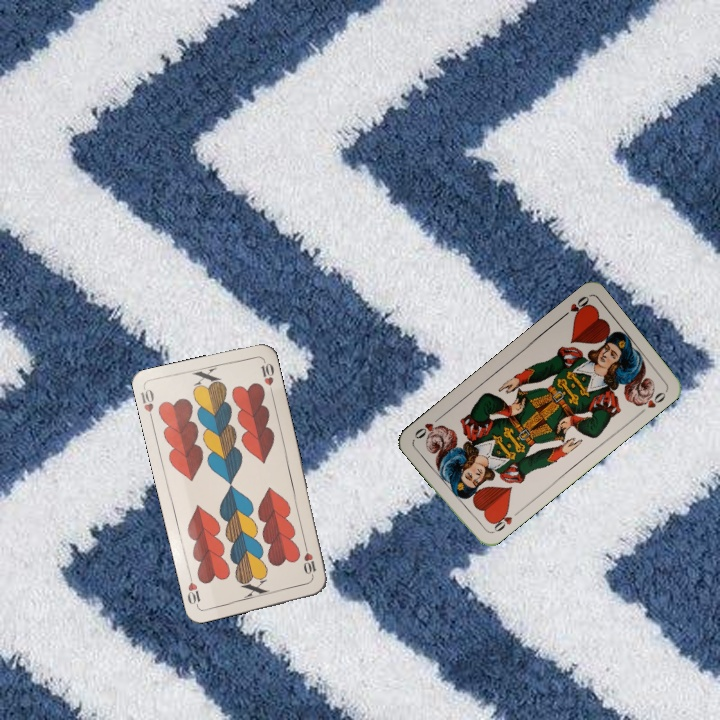H10: (137, 384, 157, 425), (300, 540, 319, 581)
HO: (556, 292, 593, 322), (487, 505, 522, 536)
